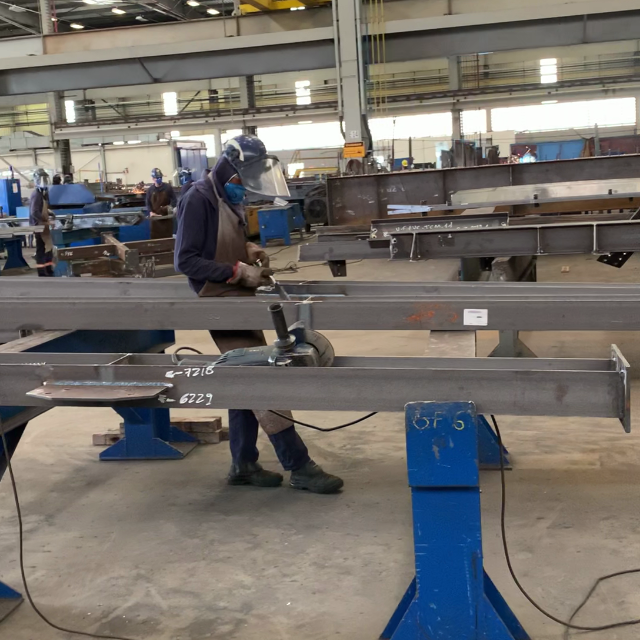face-shield: (226, 157, 296, 199)
glove: (227, 259, 274, 288), (246, 241, 271, 272)
helmet: (219, 137, 269, 163)
person: (175, 134, 280, 301)
safety-shoe: (283, 460, 346, 495), (226, 460, 284, 488)
